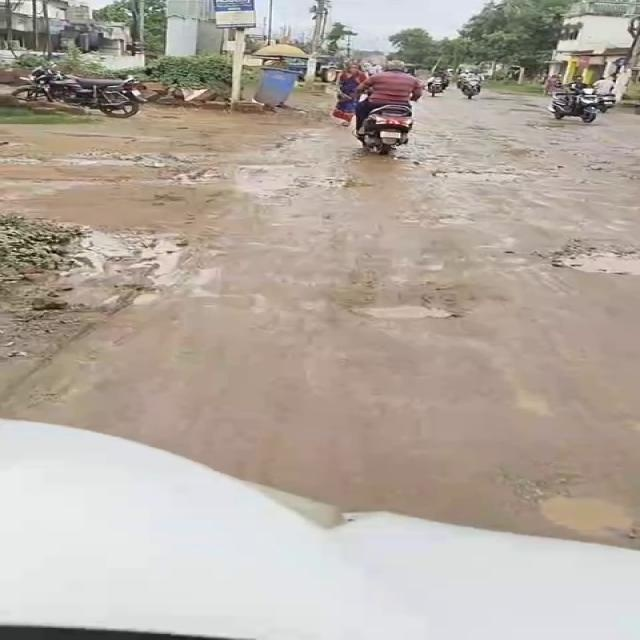pothole: (525, 486, 636, 535), (116, 233, 188, 277), (553, 242, 635, 280), (350, 300, 455, 328), (232, 175, 363, 193), (430, 167, 537, 186), (387, 215, 488, 231), (232, 156, 309, 173), (517, 118, 603, 128), (403, 151, 466, 163), (503, 144, 548, 160), (605, 222, 640, 235)
